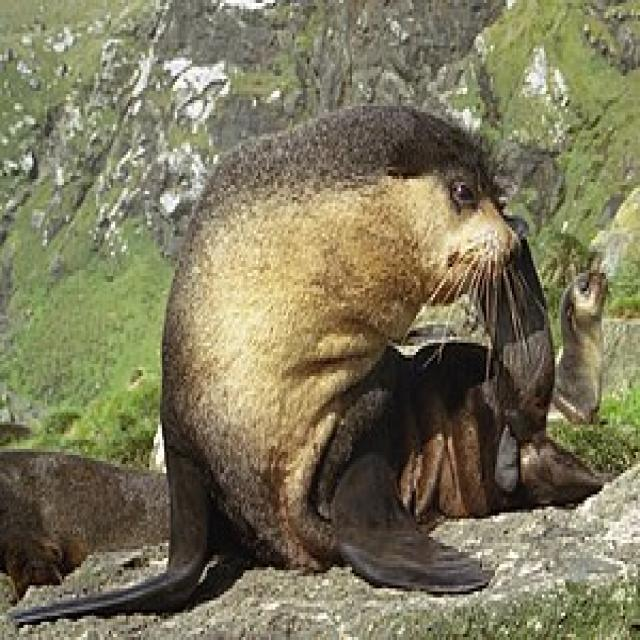WaterDog: (153, 106, 557, 608), (551, 270, 613, 428)
